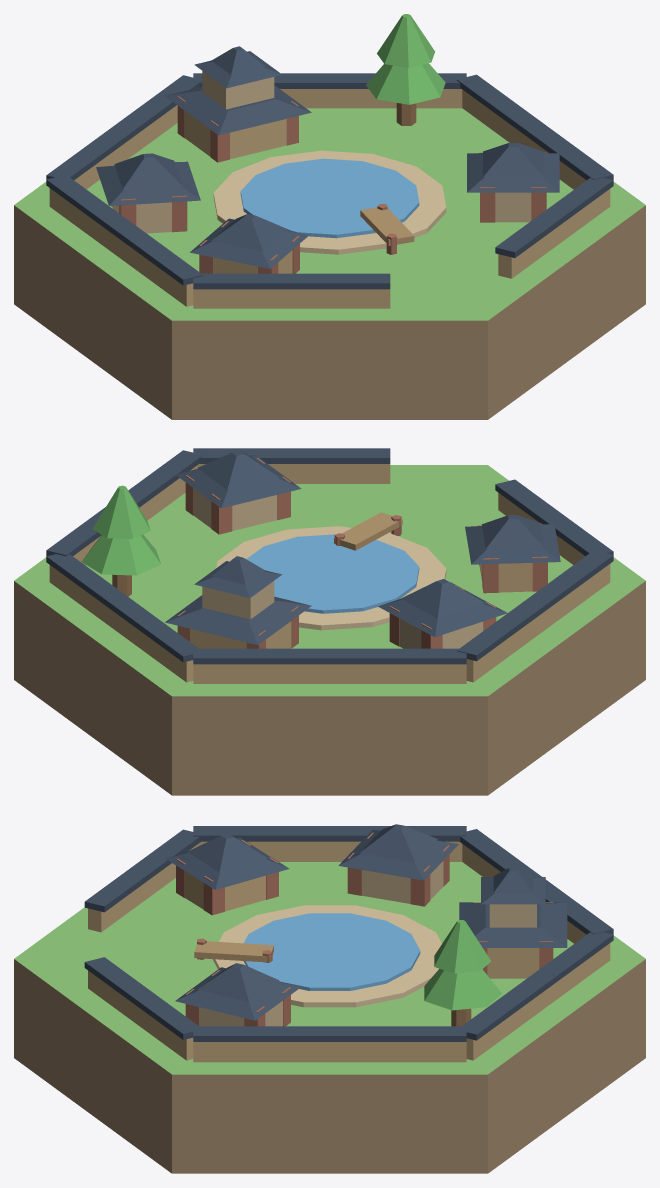
The model's file is village-4.glb.
3 renders of one model, top to bottom at view 1: azimuth 30°, elevation 25°; view 2: azimuth 150°, elevation 25°; view 3: azimuth 270°, elevation 25°, orthographic.
Visible parts, largest first — view 1: base, lake_water, lake_shore, fence_3_wall, fence_2_cap, fence_5_cap, house_n2_eave1, fence_3_cap, fence_1_cap, fence_2_wall, fence_4_cap, tree_leaf_0 (+21 smaller); view 2: base, lake_water, fence_1_wall, fence_1_cap, lake_shore, fence_2_cap, fence_0_cap, house_n2_eave1, fence_2_wall, fence_0_wall, fence_4_cap, fence_5_cap (+22 smaller); view 3: base, lake_water, lake_shore, fence_5_wall, fence_5_cap, fence_0_cap, house_n2_eave1, fence_2_cap, fence_0_wall, fence_1_cap, fence_4_cap, fence_3_cap (+22 smaller).
Boxes of the visible parts, left/top/right/bottom form: base: left=14, top=108, right=645, bottom=419; lake_water: left=240, top=158, right=419, bottom=238; lake_shore: left=213, top=150, right=446, bottom=254; fence_3_wall: left=193, top=289, right=390, bottom=308; fence_2_cap: left=46, top=175, right=202, bottom=285; fence_5_cap: left=457, top=74, right=613, bottom=180; house_n2_eave1: left=165, top=85, right=311, bottom=135; fence_3_cap: left=193, top=273, right=390, bottom=289; fence_1_cap: left=46, top=75, right=202, bottom=179; fence_2_wall: left=49, top=188, right=193, bottom=306; fence_4_cap: left=495, top=177, right=613, bottom=257; tree_leaf_0: left=366, top=63, right=445, bottom=104; base: left=14, top=465, right=645, bottom=795; lake_water: left=246, top=534, right=419, bottom=613; fence_1_wall: left=193, top=664, right=466, bottom=683; fence_1_cap: left=193, top=648, right=466, bottom=664; lake_shore: left=216, top=526, right=446, bottom=630; fence_2_cap: left=457, top=550, right=613, bottom=661; fence_0_cap: left=46, top=554, right=198, bottom=662; house_n2_eave1: left=165, top=595, right=311, bottom=644; fence_2_wall: left=466, top=564, right=610, bottom=682; fence_0_wall: left=49, top=565, right=193, bottom=682; fence_4_cap: left=193, top=448, right=390, bottom=463; fence_5_cap: left=46, top=450, right=202, bottom=556; base: left=14, top=862, right=645, bottom=1173; lake_water: left=243, top=913, right=420, bottom=990; lake_shore: left=212, top=905, right=441, bottom=1007; fence_5_wall: left=193, top=1042, right=466, bottom=1062; fence_5_cap: left=193, top=1026, right=466, bottom=1041; fence_0_cap: left=462, top=932, right=613, bottom=1040; house_n2_eave1: left=459, top=902, right=567, bottom=947; fence_2_cap: left=193, top=826, right=466, bottom=841; fence_0_wall: left=466, top=943, right=610, bottom=1060; fence_1_cap: left=460, top=829, right=613, bottom=934; fence_4_cap: left=84, top=957, right=198, bottom=1039; fence_3_cap: left=84, top=829, right=200, bottom=912.
Bounding box in the file's own units: 1 × 0.415 × 1.15.
